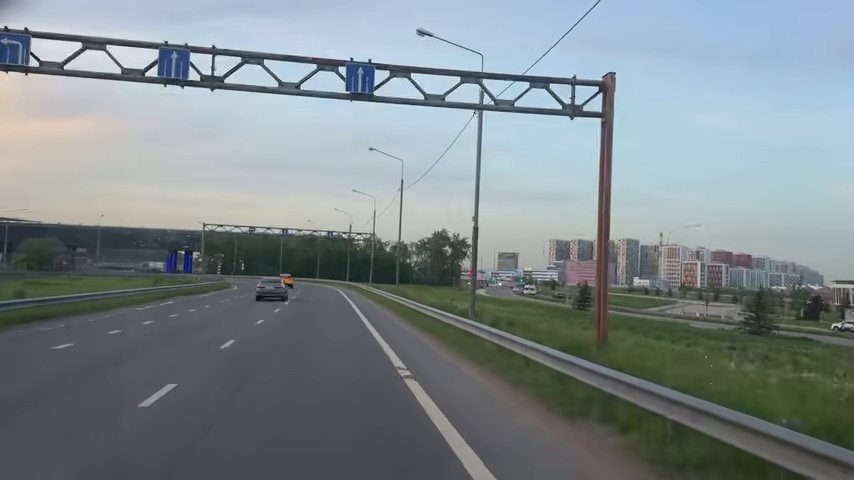apagada: (142, 381, 175, 407), (415, 26, 432, 41), (365, 145, 379, 157)
